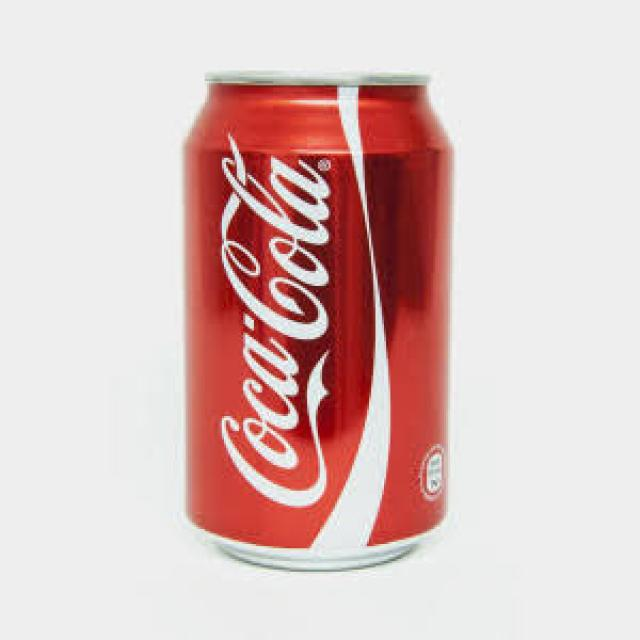can: (164, 46, 473, 579)
